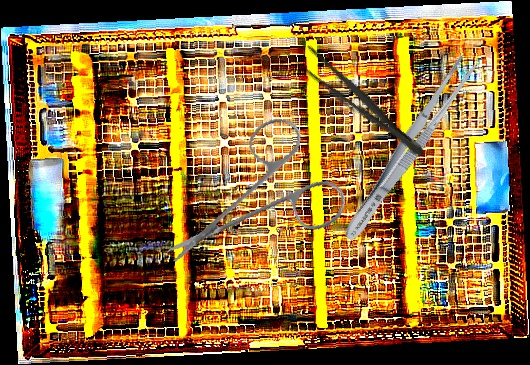Dressing Forceps: (337, 52, 480, 247), (281, 35, 433, 166)
Iris Scissors: (163, 101, 360, 294)
